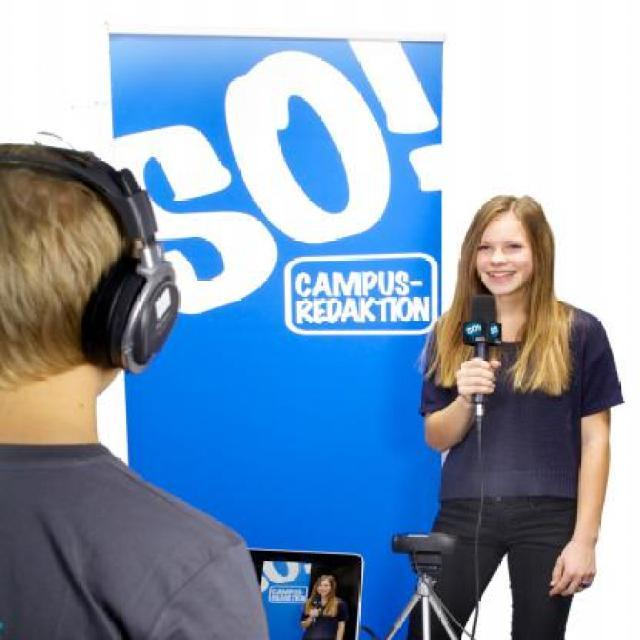earphone: (0, 132, 186, 366)
